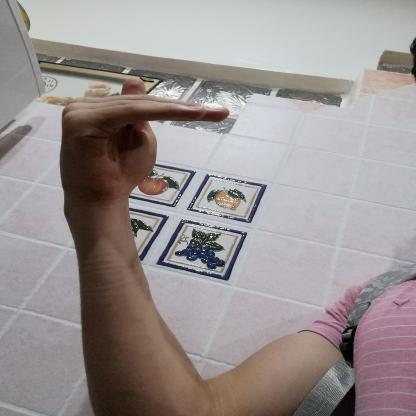KHAA: (35, 67, 241, 216)
